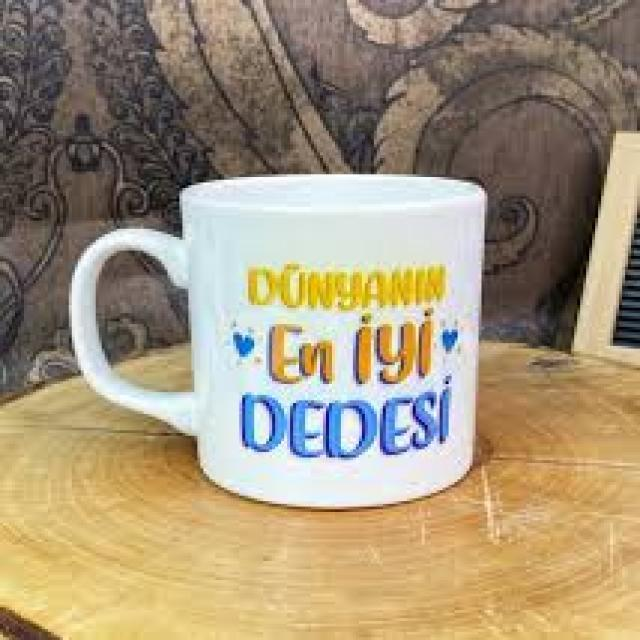taza: (69, 173, 486, 511)
